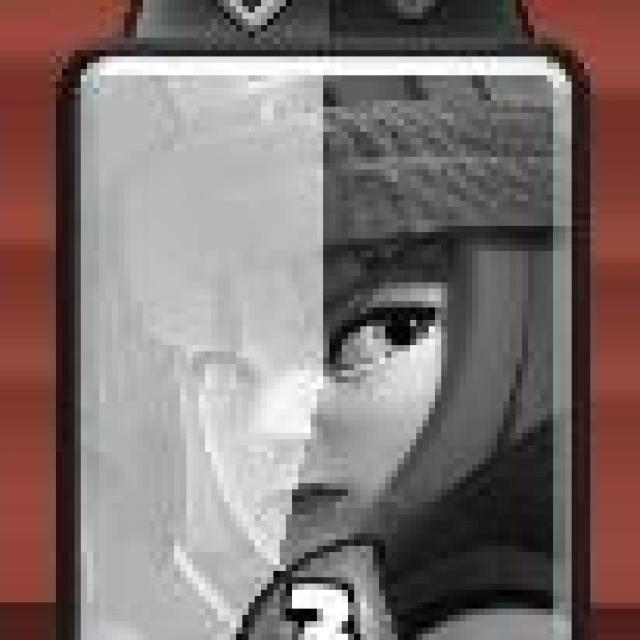Firecracker: (53, 46, 586, 640)
